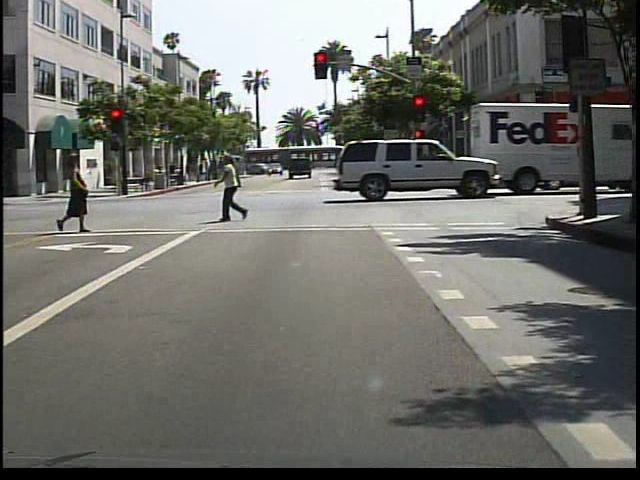person: (59, 147, 102, 235), (216, 151, 253, 223), (2, 152, 10, 237), (168, 159, 182, 185)
